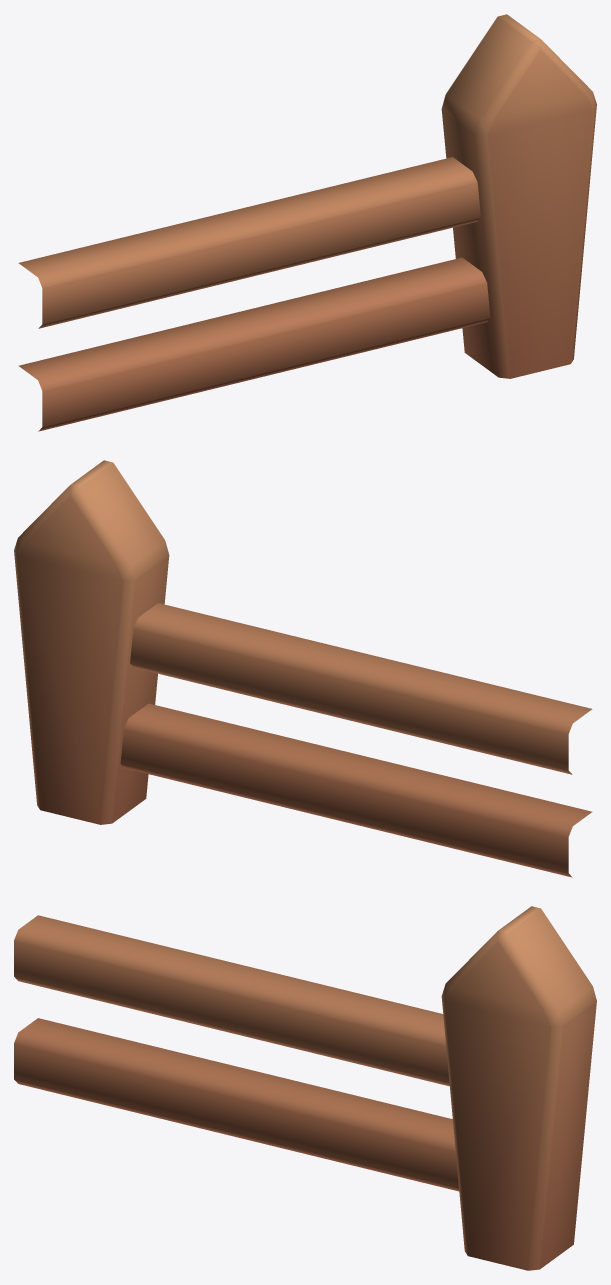
File: Fence Open Wide Long.glb
3 renders of one model, top to bottom at view 1: azimuth 30°, elevation 25°; view 2: azimuth 150°, elevation 25°; view 3: azimuth 330°, elevation 25°, orthographic.
Parts seen in each view (by area): view 1: fence_open_wide_long; view 2: fence_open_wide_long; view 3: fence_open_wide_long.
Boxes of the visible parts, box(x1,y1,x2,y2) form: fence_open_wide_long: box(18, 14, 596, 431); fence_open_wide_long: box(14, 460, 592, 877); fence_open_wide_long: box(14, 906, 596, 1270).
Size of the model in its own units: 2.25 by 1.28 by 0.3.
1 material, 1 textured.
